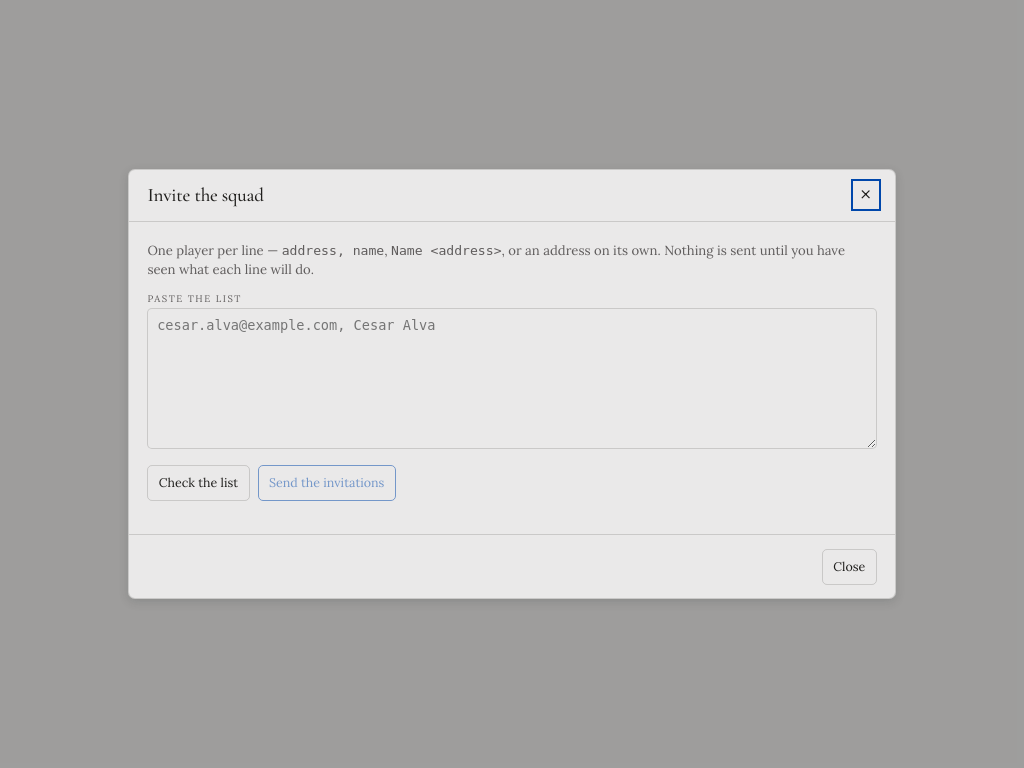
Test: before anything is sent › says which roster entry each address matched
Step 1. Type "cesar@example.com, Cesar Alva" into the text box labelled "Paste the list" → (512, 378), box [147,308,877,449]
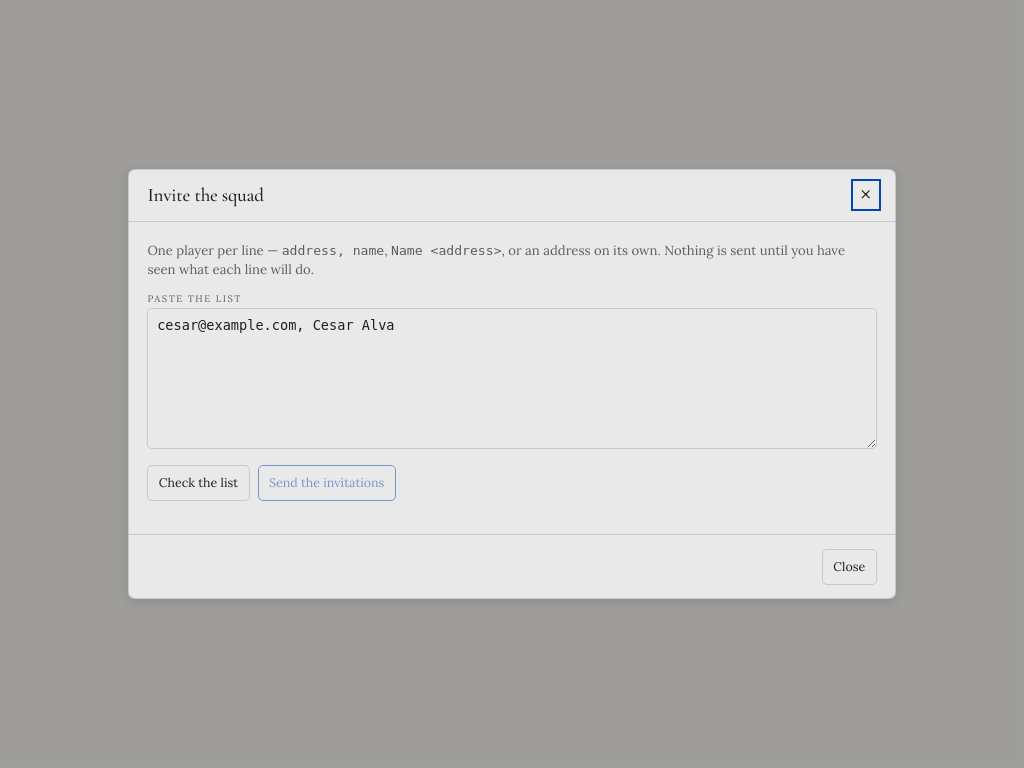
Step 2. Click the button "Check the list" → click(198, 483), box [147,465,250,501]
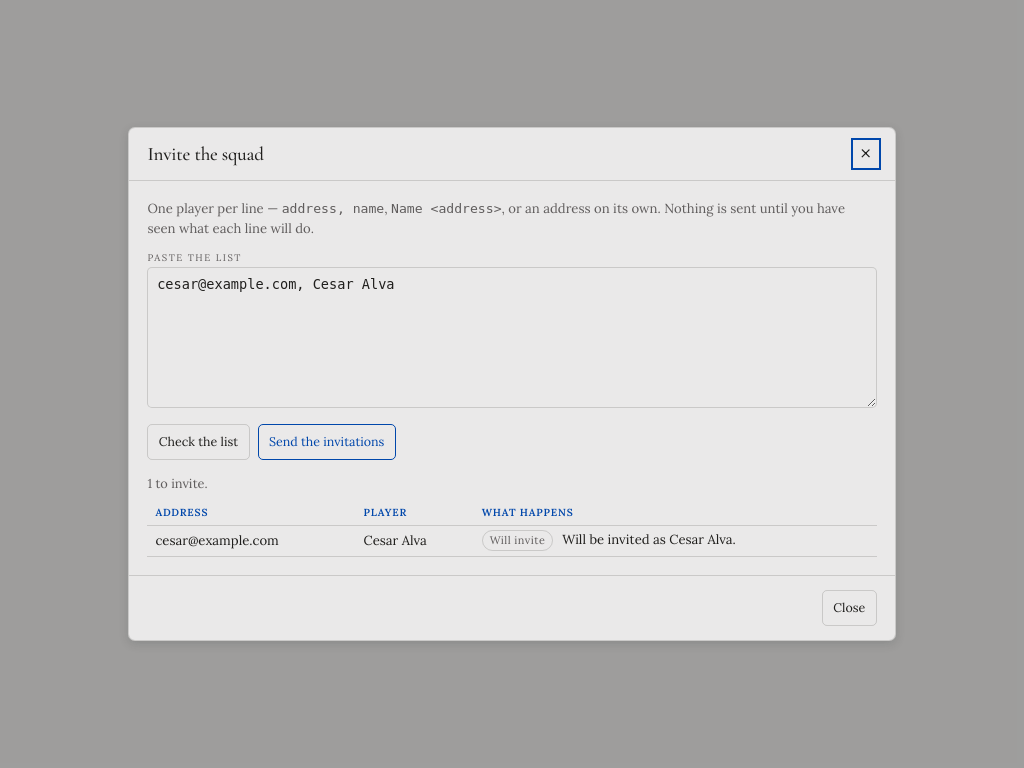
Now the row that starts with "cesar@example.com" shows "Cesar Alva", box [364,532,427,549]
Now the row that starts with "cesar@example.com" is shown, box [155,532,279,549]
